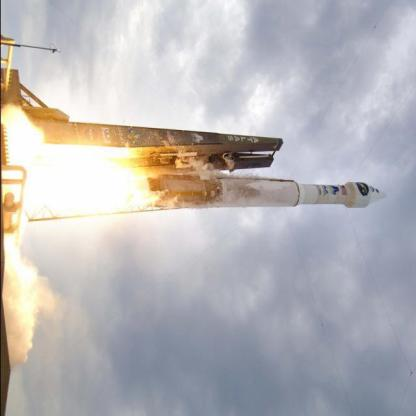MIL_TBM: (147, 177, 387, 209)
